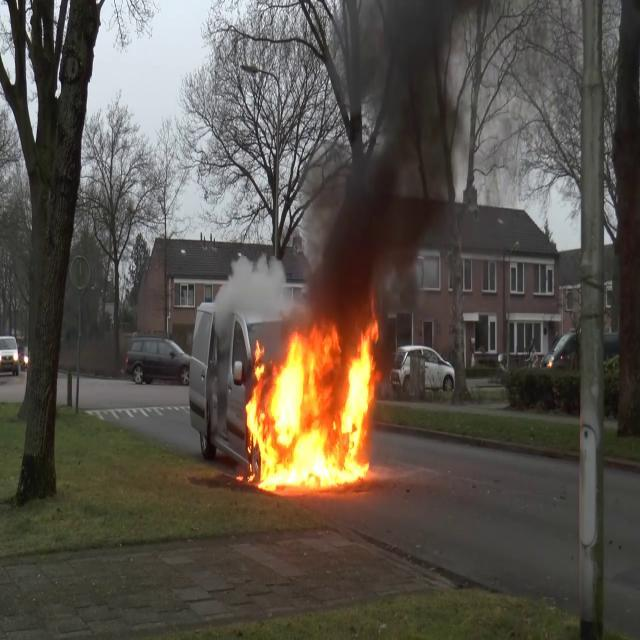Fire: (240, 318, 382, 494)
Smoke: (297, 1, 475, 318), (213, 240, 293, 336)
